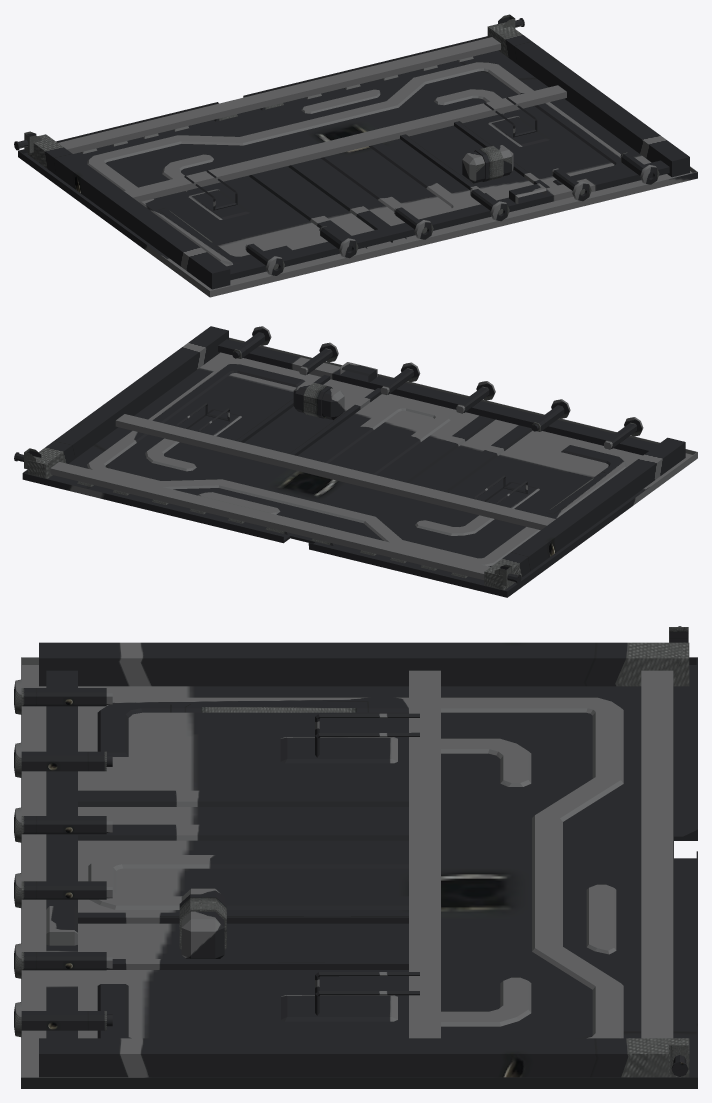
Rendered from houzuo-1.FBX.
3 views of the same model, one above another, from view 1: azimuth 30°, elevation 25°; view 2: azimuth 150°, elevation 25°; view 3: azimuth 270°, elevation 25° (orthographic). The views are drawn at different scales.
Visible parts, largest first — view 1: YF_Model_houzuo; view 2: YF_Model_houzuo; view 3: YF_Model_houzuo.
Boxes of the visible parts, <box> form: YF_Model_houzuo: <box>14,14,697,297</box>; YF_Model_houzuo: <box>14,326,697,597</box>; YF_Model_houzuo: <box>14,626,697,1088</box>.
Bounding box in the file's own units: 216 × 11.71 × 143.
